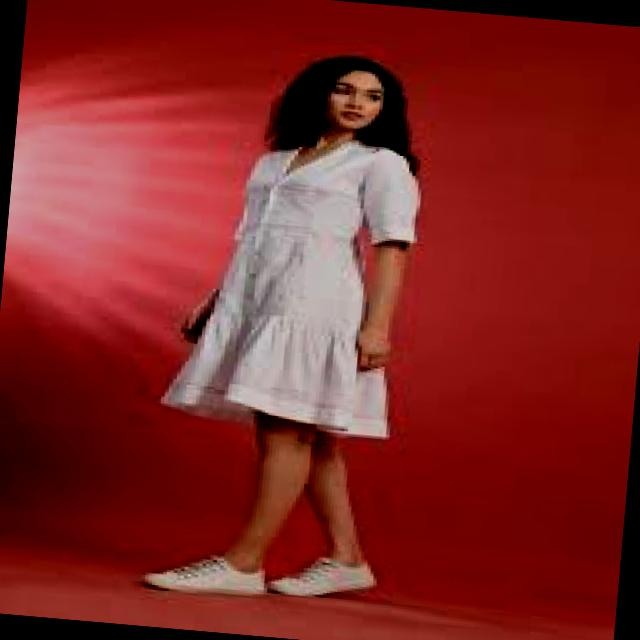dress: (160, 140, 420, 438)
